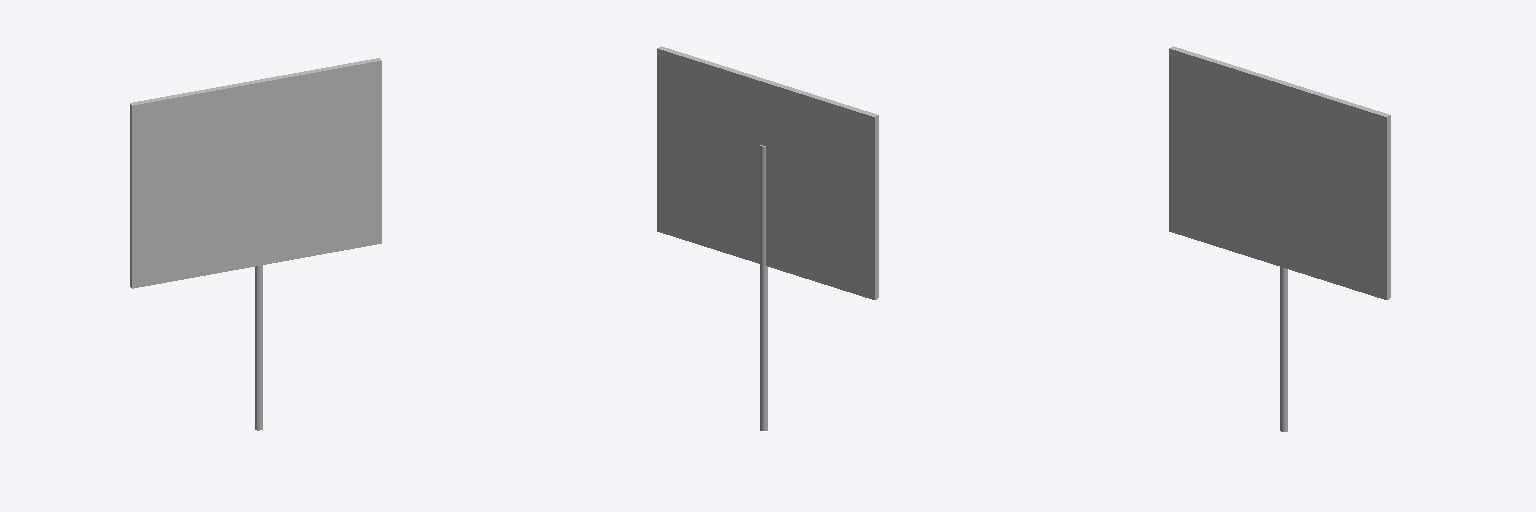
Rendered from board_22.obj.
3 views of the same model, side by side, from view 1: azimuth 30°, elevation 25°; view 2: azimuth 150°, elevation 25°; view 3: azimuth 330°, elevation 25° (orthographic).
Visible parts, largest first — view 1: Cube.027_Cube.028, Cylinder.027; view 2: Cube.027_Cube.028, Cylinder.027; view 3: Cube.027_Cube.028, Cylinder.027.
Part boxes in pixels (x1,y1,x2,y2): Cube.027_Cube.028: (130,58,381,288); Cylinder.027: (255,265,262,430); Cube.027_Cube.028: (657,46,878,299); Cylinder.027: (760,145,767,430); Cube.027_Cube.028: (1169,46,1390,299); Cylinder.027: (1280,267,1287,431).
Size of the model in its own units: 0.1209 by 0.1717 by 0.0174.